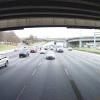Bridge: (2, 5, 97, 42)
